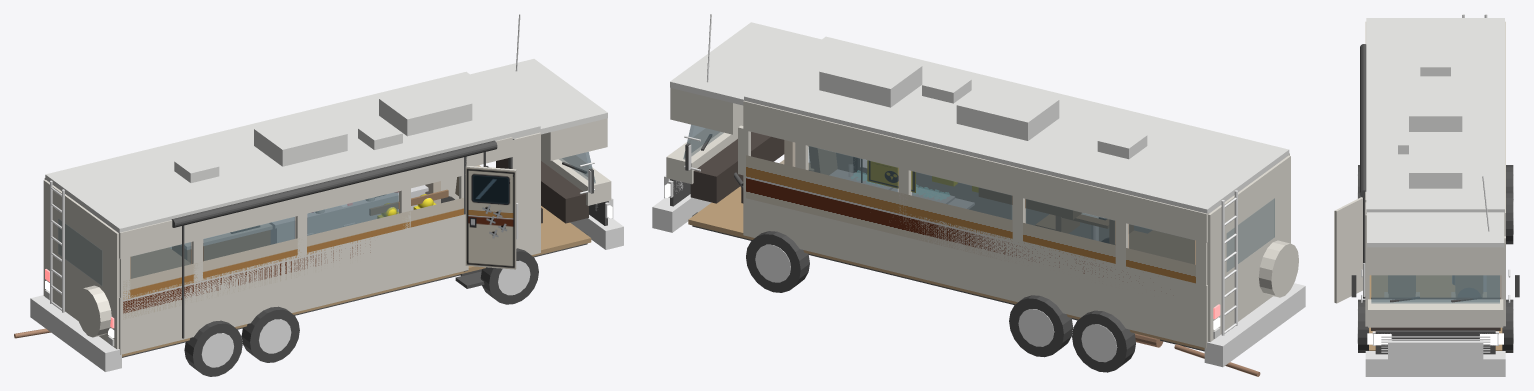
File: fleetwood_bounder_rv.glb
3 views of the same model, side by side, from view 1: azimuth 30°, elevation 25°; view 2: azimuth 150°, elevation 25°; view 3: azimuth 270°, elevation 25° (orthographic). The views are drawn at different scales.
Visible parts, largest first — view 1: Crystal_Ship_RV_roof, Crystal_Ship_RV_wall_r_lower, Crystal_Ship_RV_stripe_R, Crystal_Ship_RV_wall_r_upper, Crystal_Ship_RV_rear_wall, Crystal_Ship_RV_roof_cab, Crystal_Ship_RV_door_bulletholes_face, Crystal_Ship_RV_ac_base_-0.5, Crystal_Ship_RV_ac_base_1.9, Crystal_Ship_RV_awning, Crystal_Ship_RV_wall_r_cab_f, Crystal_Ship_RV_bumper_r (+26 smaller); view 2: Crystal_Ship_RV_roof, Crystal_Ship_RV_wall_l_lower, Crystal_Ship_RV_stripe_L, Crystal_Ship_RV_wall_l_upper, Crystal_Ship_RV_rear_wall, Crystal_Ship_RV_roof_cab, Crystal_Ship_RV_ac_base_1.9, Crystal_Ship_RV_ac_base_-0.5, Crystal_Ship_RV_bumper_r, Crystal_Ship_RV_dashboard, Crystal_Ship_RV_win_l_-0.4, Crystal_Ship_RV_cab_brow (+29 smaller); view 3: Crystal_Ship_RV_roof, Crystal_Ship_RV_roof_cab, Crystal_Ship_RV_cab_brow, Crystal_Ship_RV_hood, Crystal_Ship_RV_windshield, Crystal_Ship_RV_bullbar, Crystal_Ship_RV_door_slab, Crystal_Ship_RV_ac_base_1.9, Crystal_Ship_RV_ac_base_-0.5, Crystal_Ship_RV_bumper_f, Crystal_Ship_RV_grille, Crystal_Ship_RV_floor_main (+20 smaller).
Boxes of the visible parts, x1=… form: Crystal_Ship_RV_roof: x1=45, y1=71, x2=540, y2=233; Crystal_Ship_RV_wall_r_lower: x1=119, y1=214, x2=468, y2=354; Crystal_Ship_RV_stripe_R: x1=123, y1=198, x2=463, y2=319; Crystal_Ship_RV_wall_r_upper: x1=119, y1=156, x2=468, y2=259; Crystal_Ship_RV_rear_wall: x1=43, y1=180, x2=119, y2=349; Crystal_Ship_RV_roof_cab: x1=470, y1=59, x2=607, y2=138; Crystal_Ship_RV_door_bulletholes_face: x1=465, y1=167, x2=515, y2=268; Crystal_Ship_RV_ac_base_-0.5: x1=254, y1=113, x2=347, y2=166; Crystal_Ship_RV_ac_base_1.9: x1=379, y1=82, x2=472, y2=136; Crystal_Ship_RV_awning: x1=171, y1=140, x2=497, y2=227; Crystal_Ship_RV_wall_r_cab_f: x1=512, y1=132, x2=540, y2=255; Crystal_Ship_RV_bumper_r: x1=30, y1=295, x2=121, y2=371; Crystal_Ship_RV_roof: x1=744, y1=36, x2=1289, y2=213; Crystal_Ship_RV_wall_l_lower: x1=743, y1=173, x2=1207, y2=348; Crystal_Ship_RV_stripe_L: x1=746, y1=155, x2=1195, y2=296; Crystal_Ship_RV_wall_l_upper: x1=743, y1=100, x2=1209, y2=242; Crystal_Ship_RV_rear_wall: x1=1207, y1=155, x2=1290, y2=341; Crystal_Ship_RV_roof_cab: x1=670, y1=22, x2=821, y2=105; Crystal_Ship_RV_ac_base_1.9: x1=819, y1=48, x2=922, y2=107; Crystal_Ship_RV_ac_base_-0.5: x1=956, y1=82, x2=1059, y2=140; Crystal_Ship_RV_bumper_r: x1=1204, y1=283, x2=1305, y2=367; Crystal_Ship_RV_dashboard: x1=690, y1=132, x2=784, y2=203; Crystal_Ship_RV_win_l_-0.4: x1=911, y1=171, x2=1012, y2=219; Crystal_Ship_RV_cab_brow: x1=670, y1=88, x2=743, y2=134; Crystal_Ship_RV_roof: x1=1366, y1=18, x2=1504, y2=214; Crystal_Ship_RV_roof_cab: x1=1367, y1=212, x2=1504, y2=247; Crystal_Ship_RV_cab_brow: x1=1367, y1=247, x2=1503, y2=275; Crystal_Ship_RV_hood: x1=1368, y1=299, x2=1503, y2=327; Crystal_Ship_RV_windshield: x1=1371, y1=275, x2=1499, y2=303; Crystal_Ship_RV_bullbar: x1=1388, y1=340, x2=1483, y2=370; Crystal_Ship_RV_door_slab: x1=1334, y1=197, x2=1362, y2=303; Crystal_Ship_RV_ac_base_1.9: x1=1409, y1=143, x2=1462, y2=188; Crystal_Ship_RV_ac_base_-0.5: x1=1409, y1=86, x2=1462, y2=131; Crystal_Ship_RV_bumper_f: x1=1365, y1=351, x2=1505, y2=376; Crystal_Ship_RV_grille: x1=1375, y1=330, x2=1495, y2=354; Crystal_Ship_RV_floor_main: x1=1369, y1=275, x2=1454, y2=295.
Size of the model in its own units: 10.47 by 4.1 by 3.31.
Materials: 34 (5 with a texture image).
